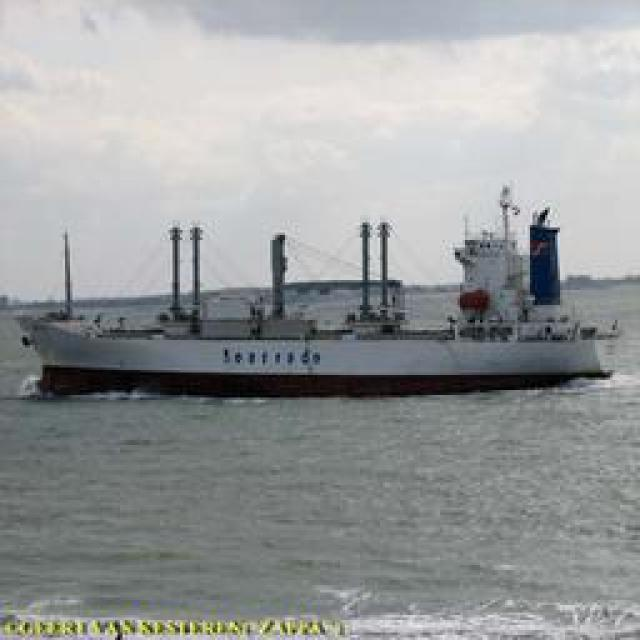Ship: (15, 215, 625, 395)
